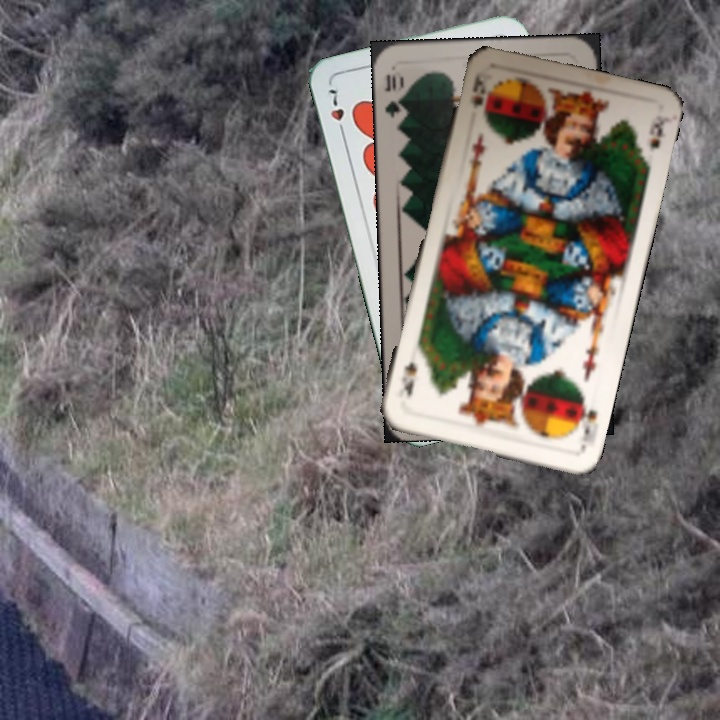G10: (380, 70, 407, 120)
H7: (324, 85, 348, 140)
SK: (571, 392, 601, 438), (467, 67, 492, 110)
